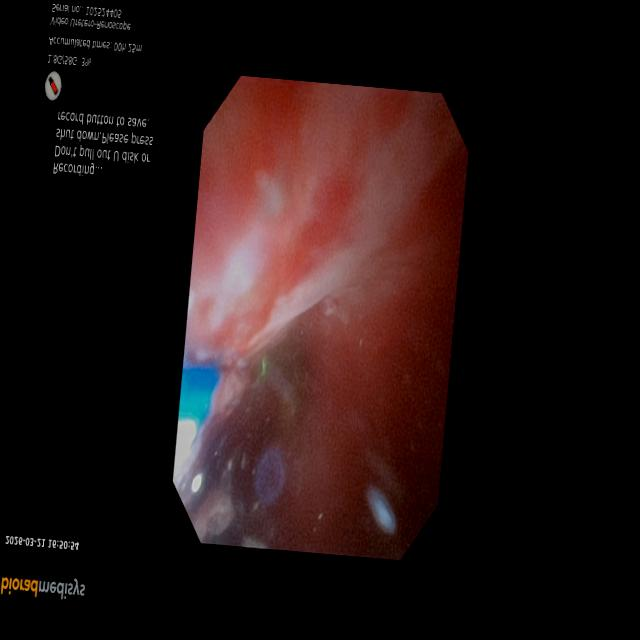laser-fibre: (211, 361, 262, 414)
